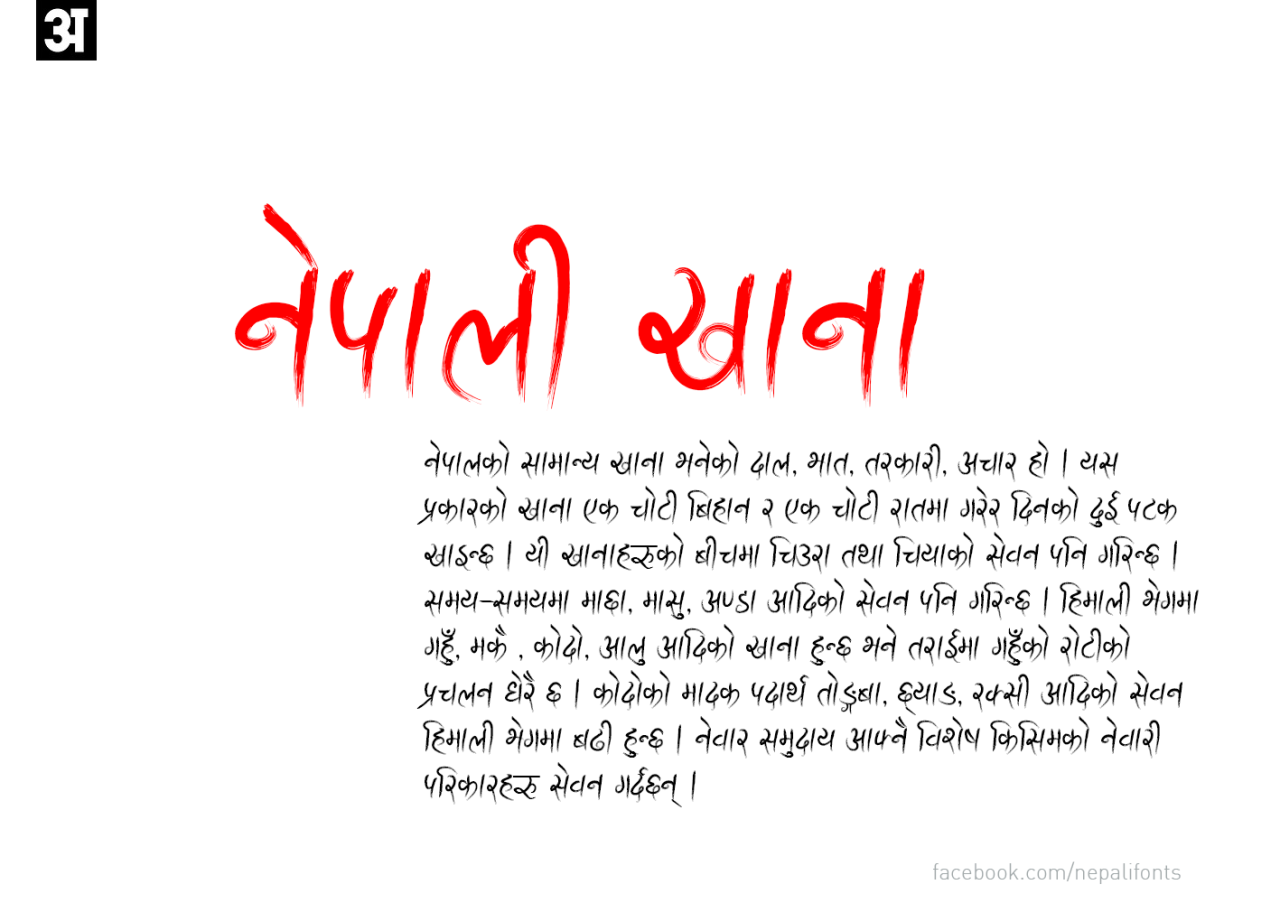text: (233, 200, 573, 414), (636, 263, 925, 401), (422, 763, 539, 806), (559, 532, 687, 571), (987, 715, 1093, 756), (418, 486, 510, 526), (418, 440, 513, 476), (1059, 622, 1133, 666), (891, 532, 976, 570), (419, 716, 495, 757), (613, 766, 683, 810), (813, 670, 881, 715), (766, 579, 846, 617), (655, 625, 737, 662), (415, 677, 495, 714), (590, 671, 672, 707), (1055, 579, 1133, 616), (863, 444, 943, 480), (1098, 714, 1162, 759), (907, 629, 985, 665), (673, 438, 741, 479), (1039, 672, 1121, 706), (1008, 488, 1081, 524), (989, 625, 1050, 667), (522, 449, 602, 481), (1142, 575, 1200, 619), (692, 715, 750, 758), (685, 488, 754, 524), (548, 761, 606, 803), (758, 727, 839, 757), (418, 540, 496, 571), (501, 714, 563, 753), (768, 534, 833, 571), (1098, 534, 1163, 571), (971, 672, 1032, 711), (969, 580, 1033, 617), (846, 719, 911, 755), (1128, 671, 1186, 711), (694, 534, 762, 568), (985, 532, 1041, 573), (493, 586, 571, 615), (955, 448, 1021, 482), (854, 578, 910, 618), (914, 720, 983, 752), (897, 679, 958, 714), (830, 485, 882, 525), (420, 585, 480, 619), (533, 623, 584, 663), (748, 675, 809, 708), (628, 485, 679, 524), (886, 496, 949, 527), (609, 446, 668, 479), (518, 494, 576, 527), (700, 585, 758, 618), (681, 677, 741, 708), (599, 630, 650, 666), (959, 486, 1004, 526), (572, 719, 616, 758), (744, 633, 805, 661), (808, 631, 853, 667), (468, 624, 510, 662), (747, 447, 793, 481), (420, 627, 459, 667), (622, 721, 664, 758), (642, 587, 686, 622), (861, 624, 900, 662), (504, 669, 540, 710), (1047, 535, 1089, 570), (1127, 495, 1179, 523), (920, 581, 959, 618), (580, 494, 621, 529), (1078, 447, 1124, 478), (580, 585, 628, 614), (840, 542, 887, 569), (806, 447, 850, 475), (1091, 488, 1121, 527), (782, 496, 822, 525), (1024, 437, 1051, 479), (525, 532, 551, 569), (543, 679, 563, 710), (759, 496, 776, 527)
